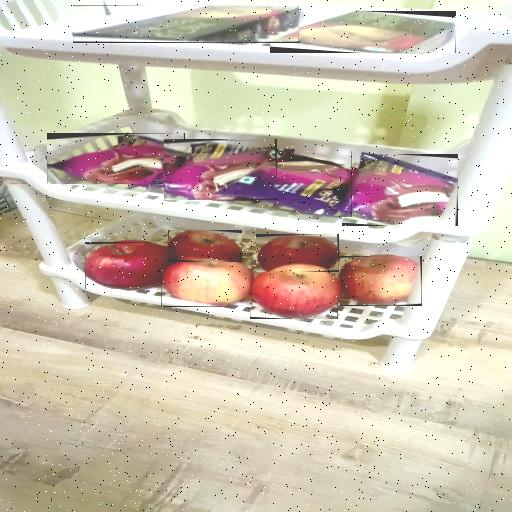Apple: (250, 265, 338, 319), (161, 258, 252, 307), (85, 242, 177, 289), (340, 256, 422, 306), (256, 234, 339, 272), (168, 230, 242, 262)
Choco Fills: (73, 5, 299, 43), (270, 11, 456, 53)
Choco Pie: (219, 151, 352, 217), (342, 154, 458, 226), (47, 133, 185, 184), (165, 141, 276, 200)
